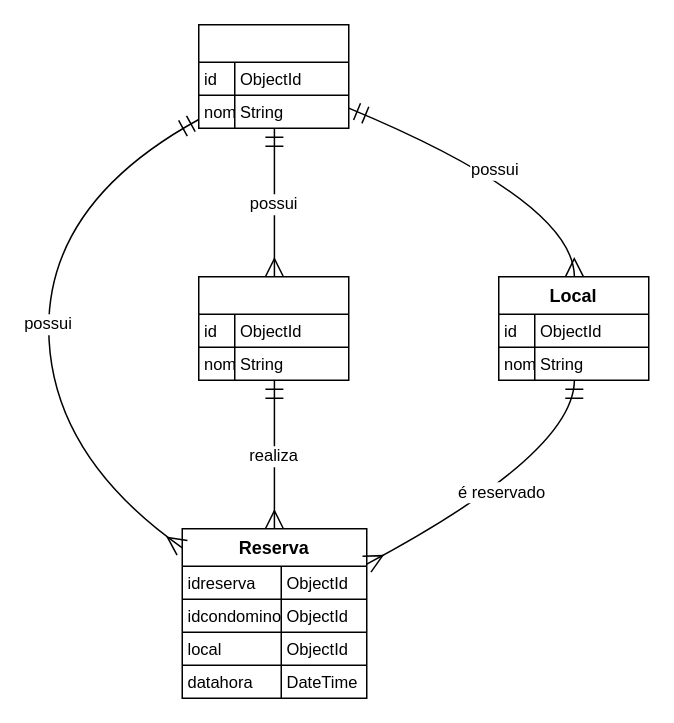
Image size: 674x723. Some labels were removed from this diagram. The shapes that lost their labels are listed below. From the top down, each one's box as (x1, y1, x2, y2) in pixels, then its label:
(197, 23, 349, 128): Condominio
(197, 275, 349, 380): Condomino
